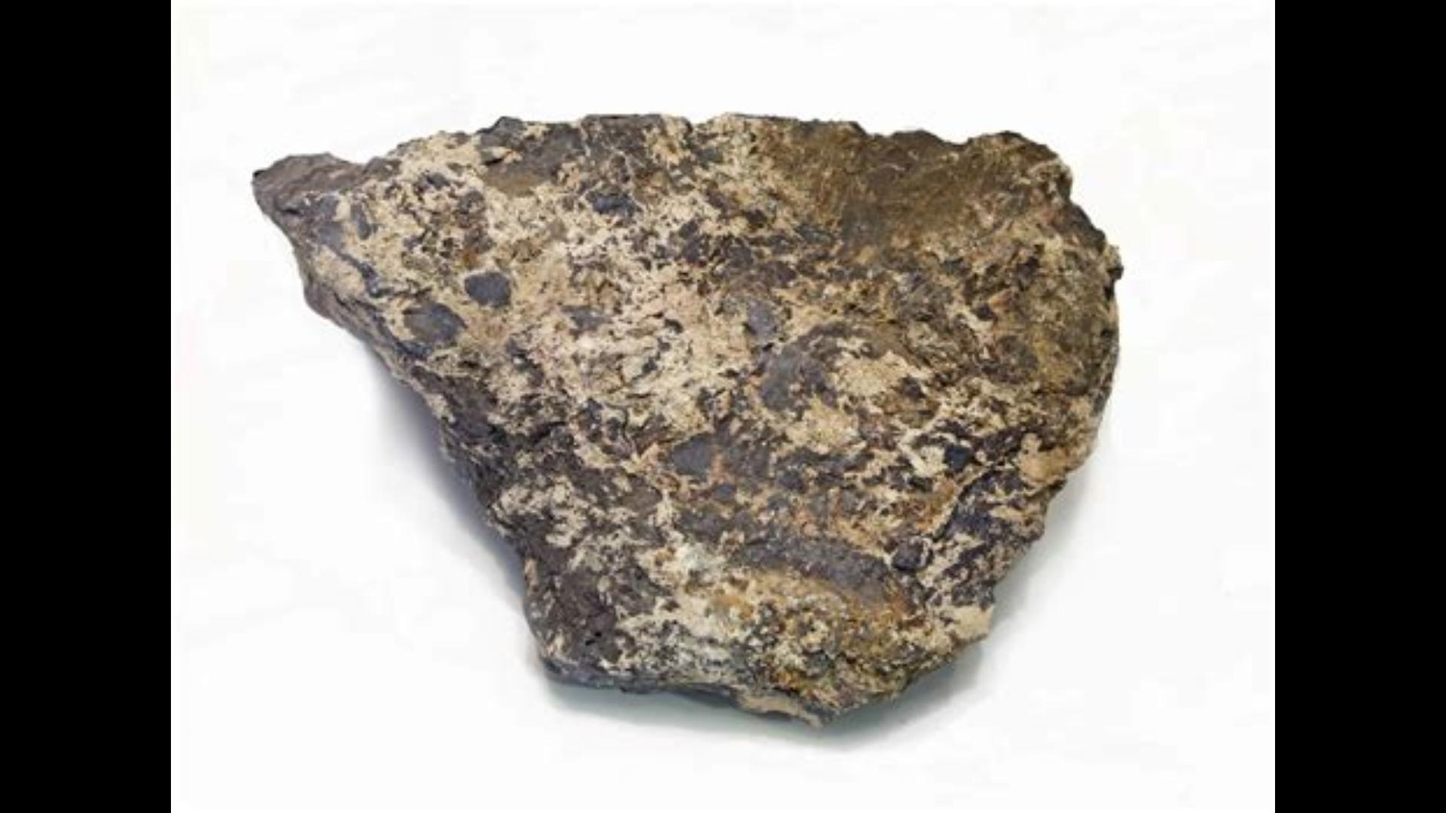rock: (255, 119, 1115, 720)
